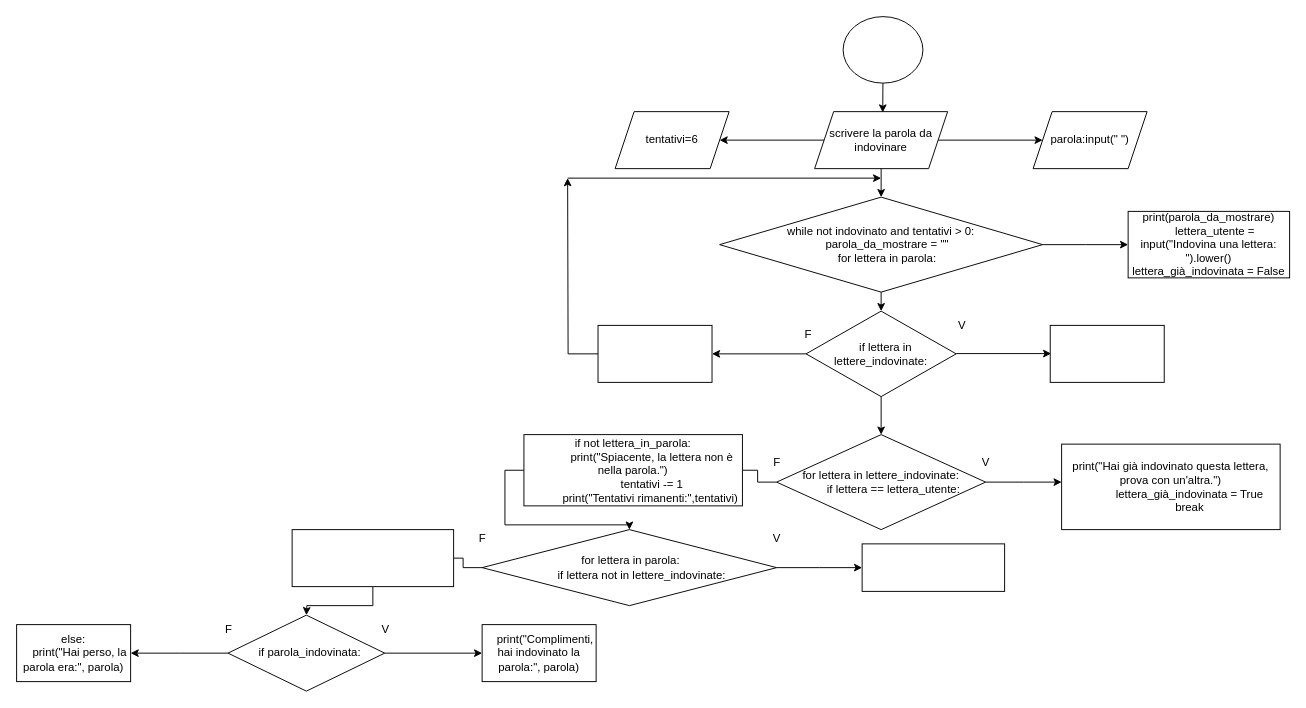
This 1306x708 diagram has some shape labels left out. Each missing label, with the centre of its shape:
if not lettera_già_indovinata: lettera_in_parola = False for lettera in parola:: (x=372, y=558)
INIZIO: (x=882, y=49)
parola_da_mostrare += "_": (x=654, y=353)
parola_da_mostrare += lettera: (x=1106, y=353)
parola_indovinata = False break: (x=933, y=567)
